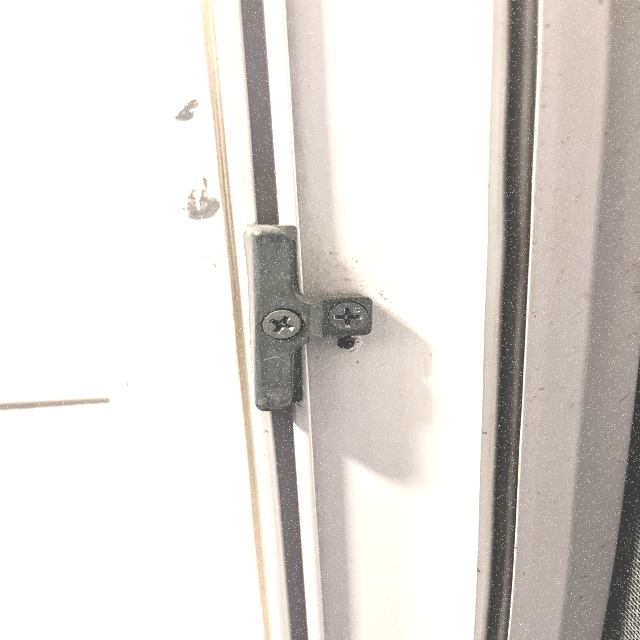phillips: (327, 301, 369, 331), (262, 309, 302, 339)
